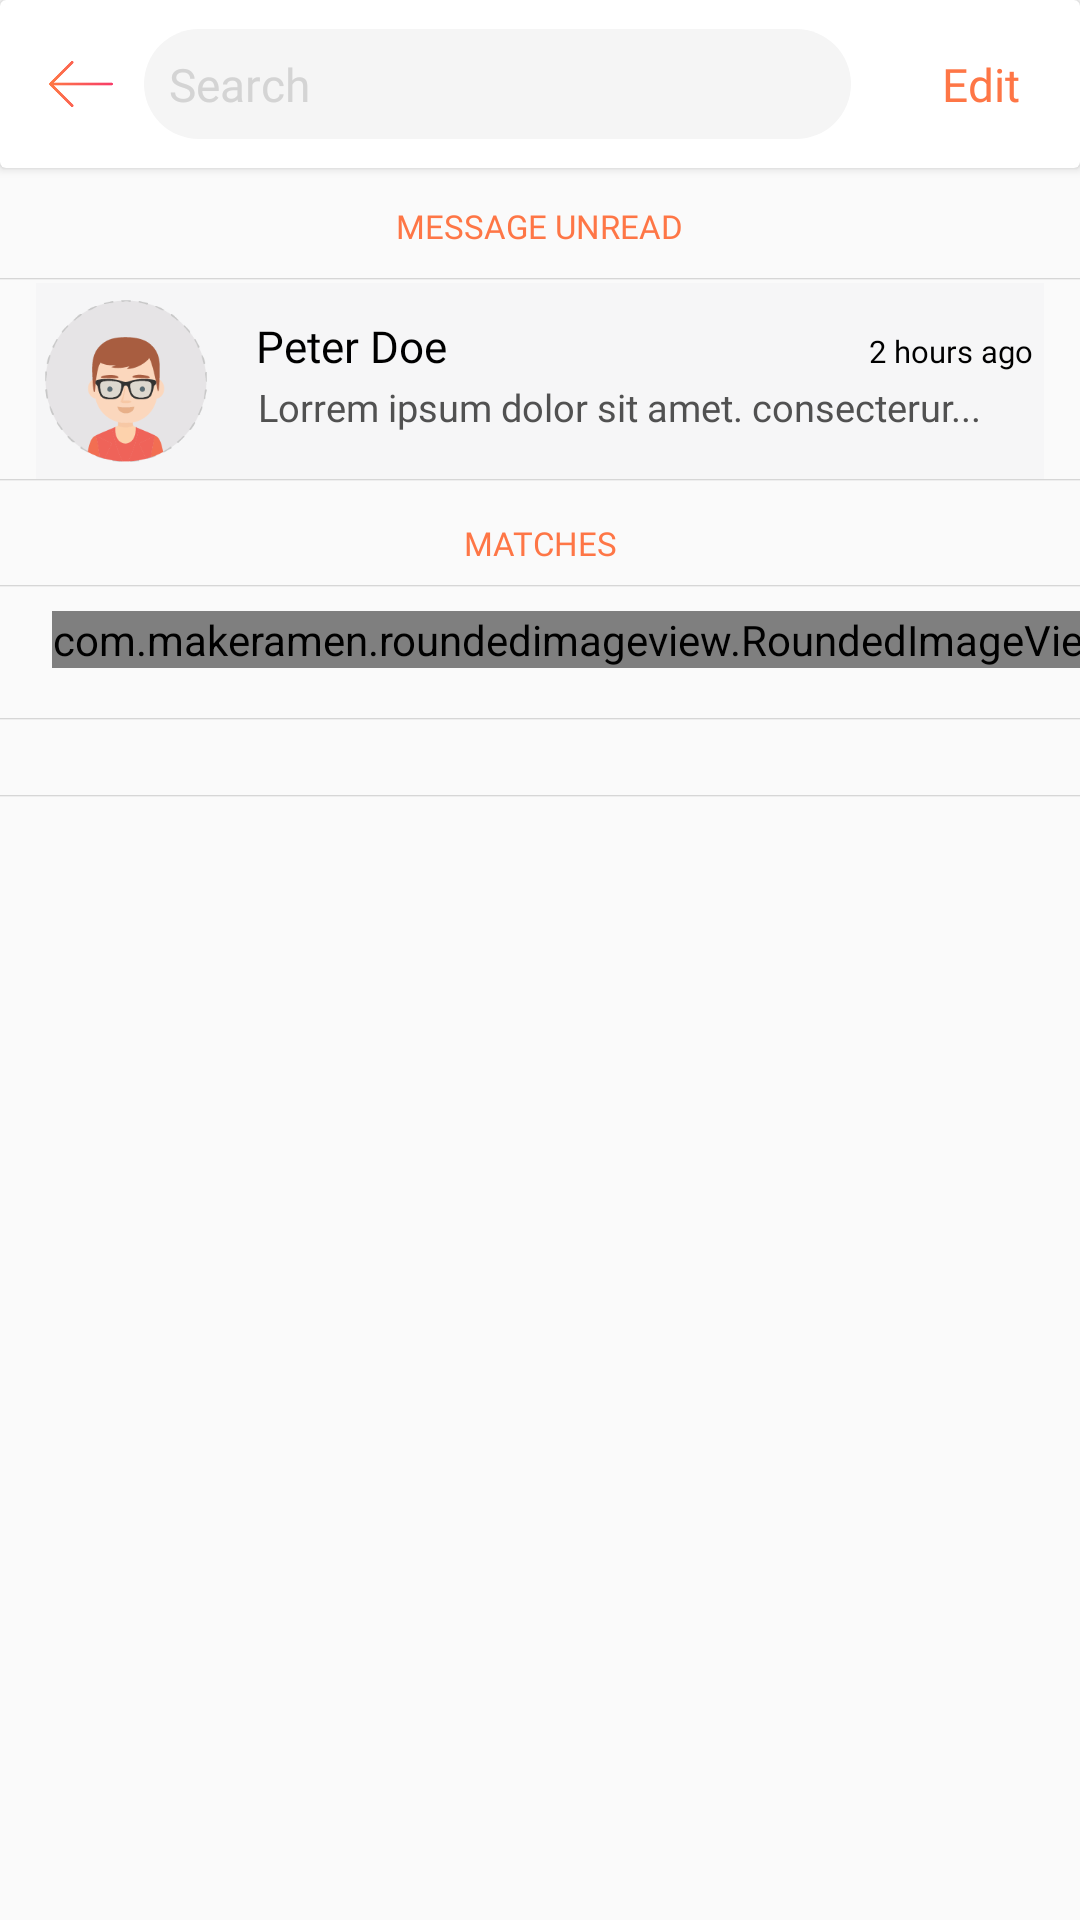

Screen size 1080 × 1920. Icon name, then its center in pixels as [x,y]:
character: [126,381]
left arrow: [81,84]
